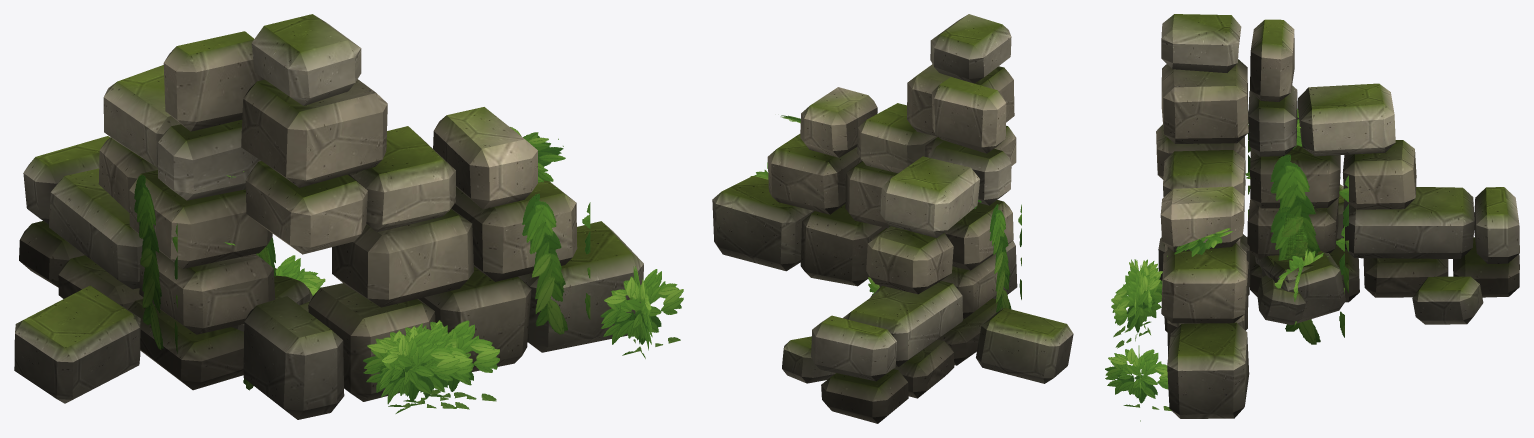
The model's file is ruin_wall_b.glb.
3 renders of one model, left to right at view 1: azimuth 30°, elevation 25°; view 2: azimuth 150°, elevation 25°; view 3: azimuth 270°, elevation 25°, orthographic. The views are drawn at different scales.
Visible parts, largest first — view 1: ruin_wall_b; view 2: ruin_wall_b; view 3: ruin_wall_b.
Boxes of the visible parts, left/top/right/bottom form: ruin_wall_b: left=14, top=14, right=683, bottom=419; ruin_wall_b: left=712, top=14, right=1073, bottom=423; ruin_wall_b: left=1105, top=14, right=1519, bottom=421.
Size of the model in its own units: 2.78 by 2.03 by 2.42.
2 materials, 2 textured.
